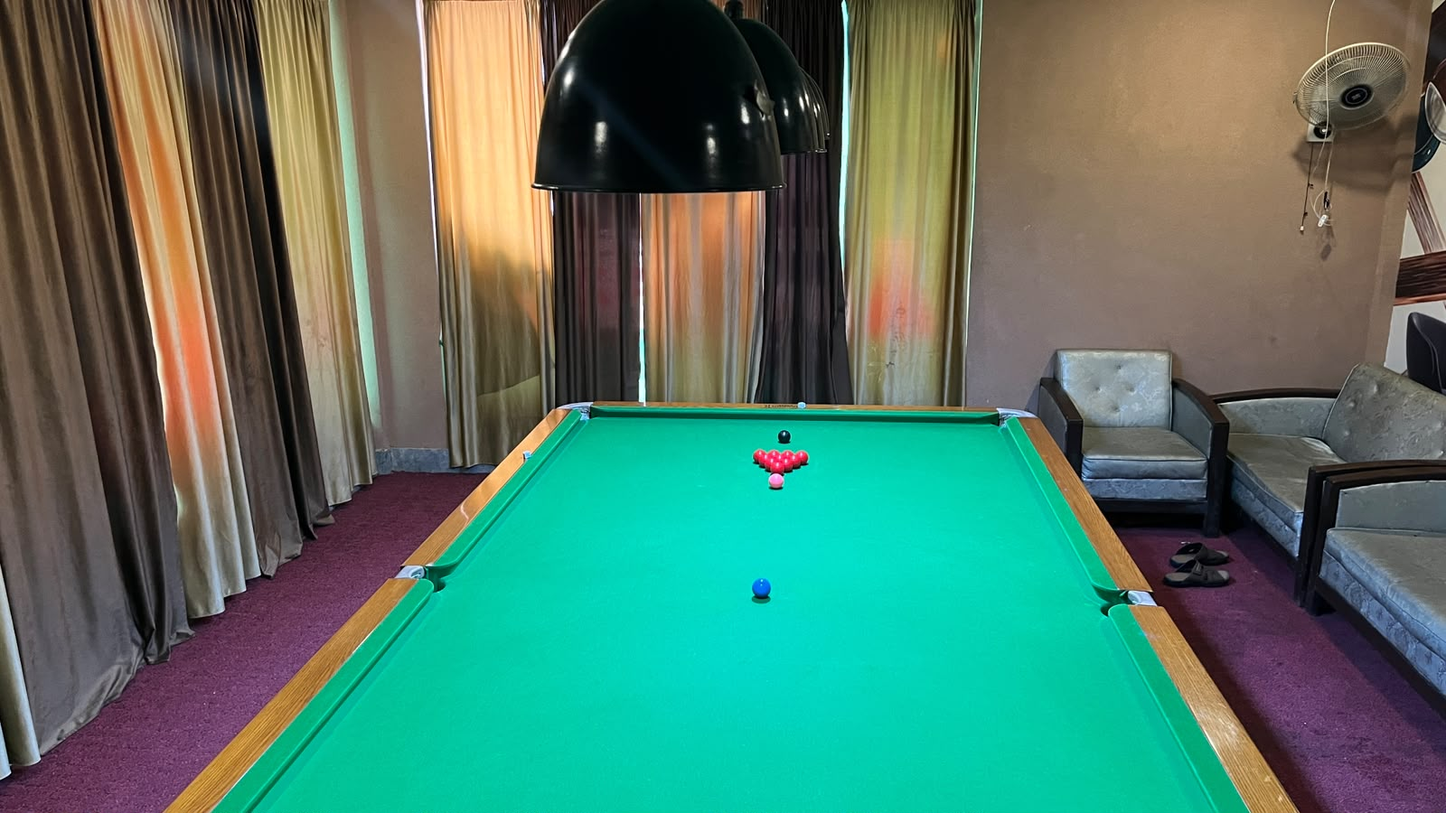Snooker: (750, 445, 816, 477)
